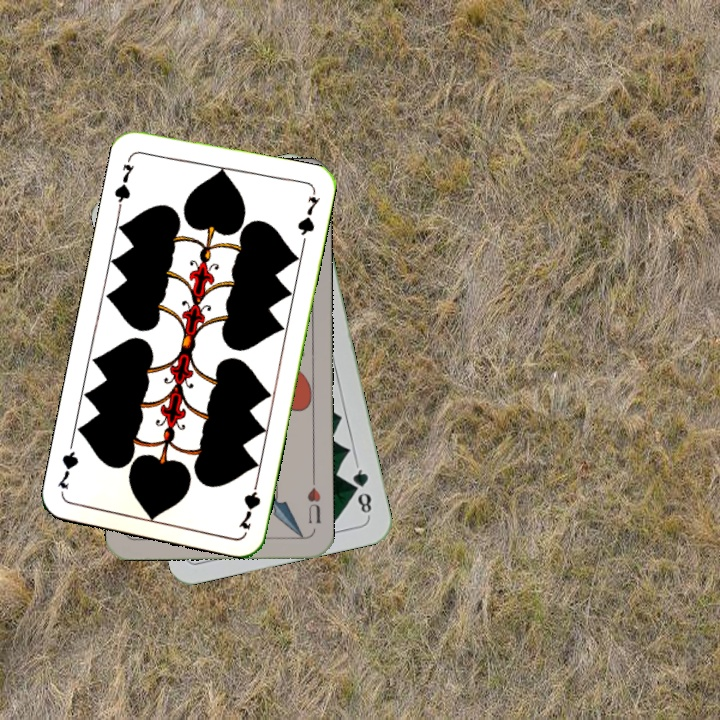G7: (235, 474, 264, 532), (110, 160, 137, 211)
G8: (348, 460, 374, 519)
HU: (303, 473, 323, 526)
